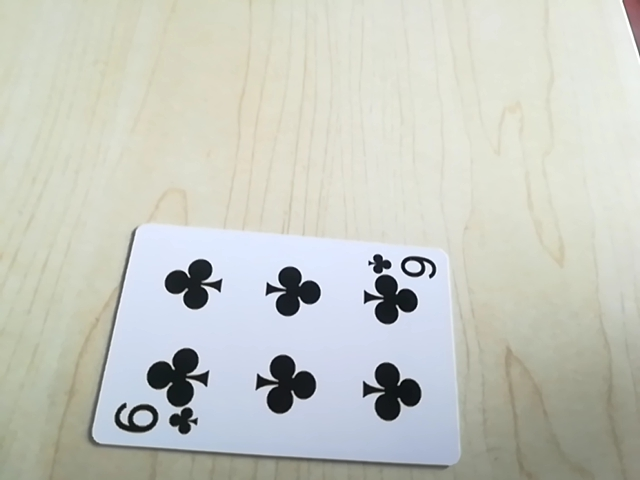mh 6: (108, 401, 200, 441), (369, 252, 440, 283)
